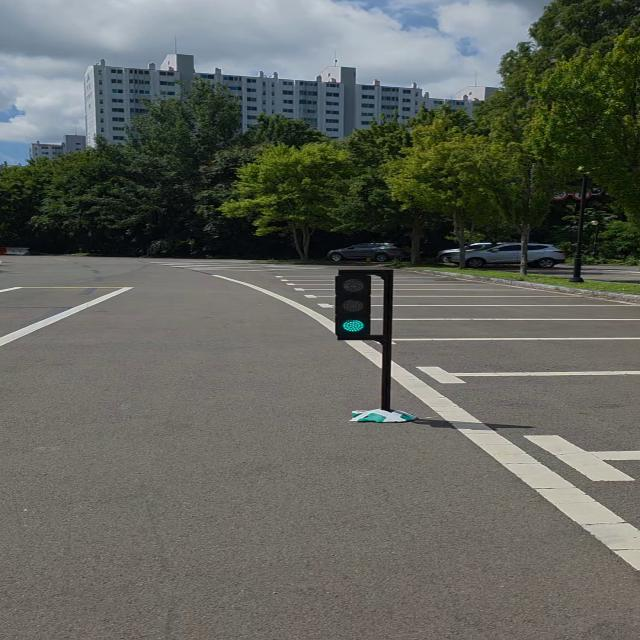green: (334, 268, 375, 339)
